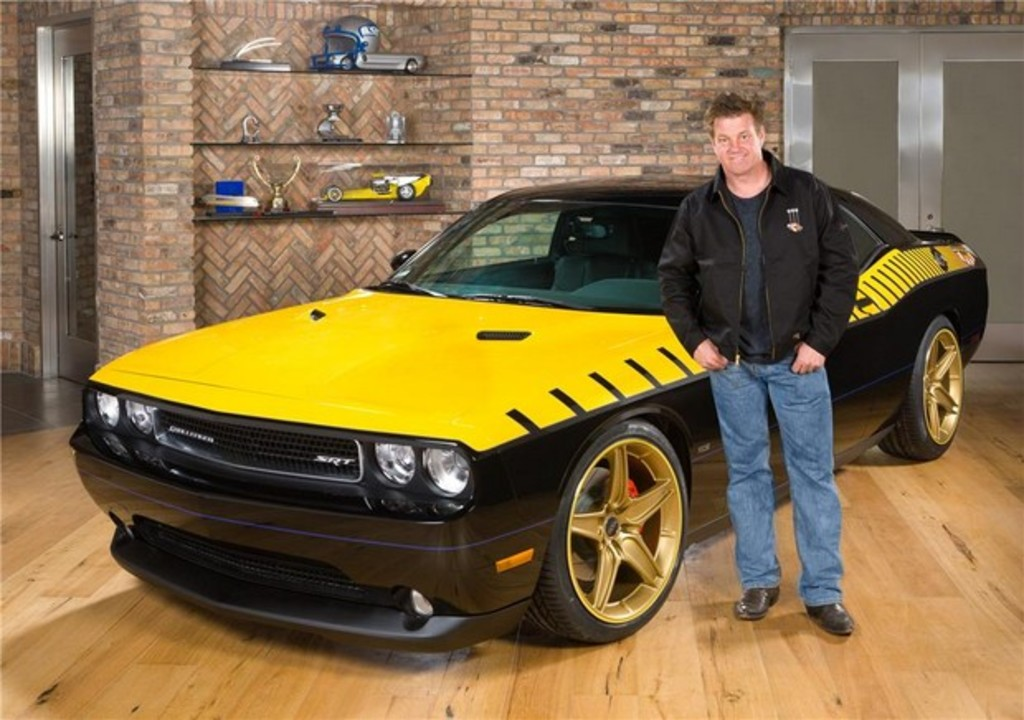Car: (59, 175, 787, 647)
